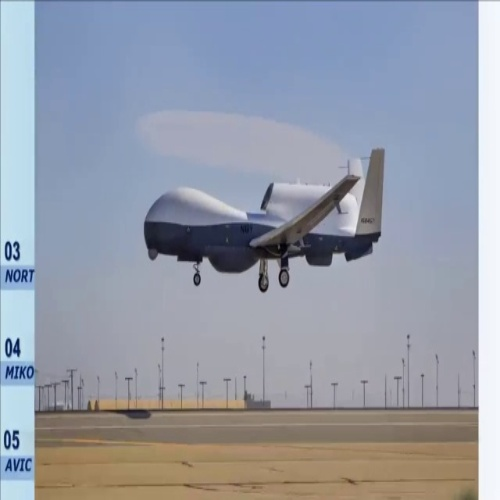uav1016: (141, 143, 392, 293)
